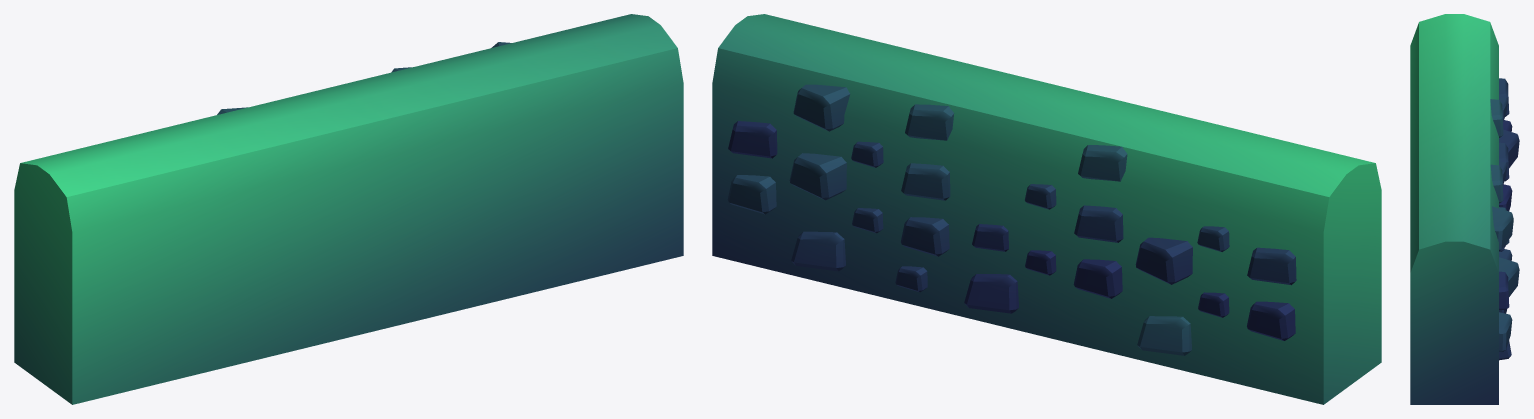
Rendered from SM_Wall_1.fbx.
The picture shows the model from 3 angles, left to right: view 1: azimuth 30°, elevation 25°; view 2: azimuth 150°, elevation 25°; view 3: azimuth 270°, elevation 25°; orthographic projection. The views are drawn at different scales.
Parts seen in each view (by area): view 1: pCube124; view 2: pCube124; view 3: pCube124.
Boxes of the visible parts, x1,y1,x2,y2 form: pCube124: (14,14,683,404); pCube124: (712,14,1381,404); pCube124: (1410,14,1519,404).
Bounding box in the file's own units: 638 × 213 × 129.
